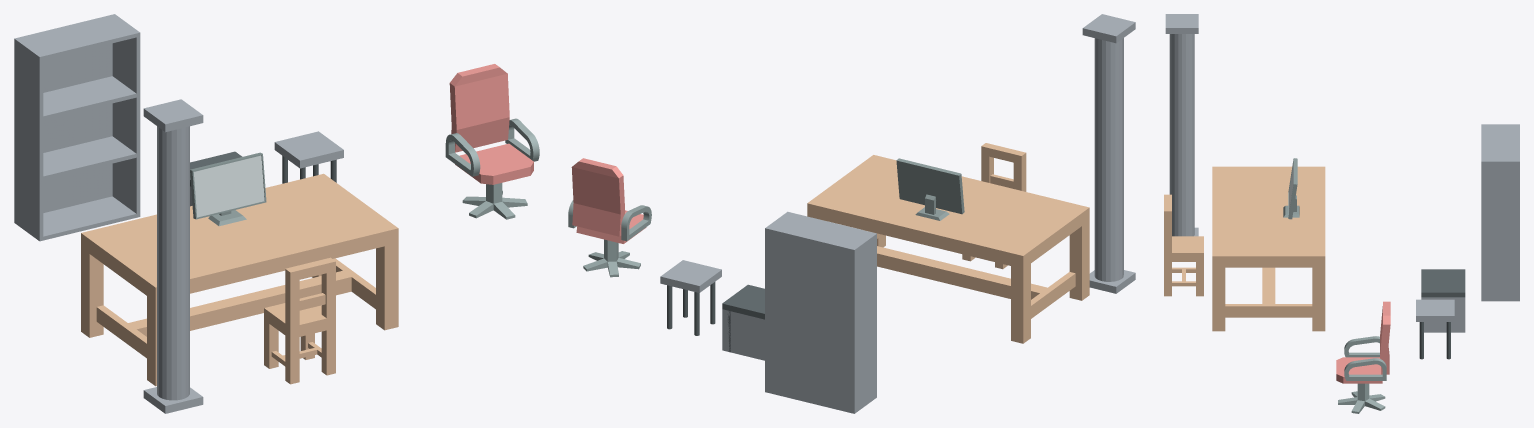
3 views of the same model, side by side, from view 1: azimuth 30°, elevation 25°; view 2: azimuth 150°, elevation 25°; view 3: azimuth 270°, elevation 25° (orthographic). The views are drawn at different scales.
Parts seen in each view (by area): view 1: table_green__table(Clone), column_cyan__column_cyan shaft, deskchair_black__chair, shelf_orange__shelf_orange back, chair_cyan__chair(Clone), shelf_orange__shelf_orange side_l, shelf_orange__shelf_orange side_r, monitor_gray__computerScreen(Clone), shelf_orange__shelf_orange board3, shelf_orange__shelf_orange board2, shelf_orange__shelf_orange board1, shelf_orange__shelf_orange board0 (+4 smaller); view 2: table_green__table(Clone), shelf_orange__shelf_orange back, column_cyan__column_cyan shaft, deskchair_black__chair, shelf_orange__shelf_orange side_l, monitor_gray__computerScreen(Clone), crate_red__crate_red shell, shelf_orange__shelf_orange board3, chair_cyan__chair(Clone), stool_purple__stool_purple seat, column_cyan__column_cyan capital, deskchair_black__chairDesk(Clone) (+3 smaller); view 3: table_green__table(Clone), shelf_orange__shelf_orange side_r, column_cyan__column_cyan shaft, deskchair_black__chair, chair_cyan__chair(Clone), shelf_orange__shelf_orange board3, crate_red__crate_red lid, stool_purple__stool_purple seat, crate_red__crate_red shell, deskchair_black__chairDesk(Clone), column_cyan__column_cyan capital, monitor_gray__computerScreen(Clone).
Boxes of the visible parts, <box> form: table_green__table(Clone): <box>81,173,398,386</box>; column_cyan__column_cyan shaft: <box>157,126,189,400</box>; deskchair_black__chair: <box>445,64,539,184</box>; shelf_orange__shelf_orange back: <box>18,15,112,212</box>; chair_cyan__chair(Clone): <box>264,257,335,384</box>; shelf_orange__shelf_orange side_l: <box>14,37,43,241</box>; shelf_orange__shelf_orange side_r: <box>111,14,140,217</box>; monitor_gray__computerScreen(Clone): <box>190,152,266,226</box>; shelf_orange__shelf_orange board3: <box>20,16,136,59</box>; shelf_orange__shelf_orange board2: <box>43,76,136,120</box>; shelf_orange__shelf_orange board1: <box>43,136,136,180</box>; shelf_orange__shelf_orange board0: <box>43,196,136,240</box>; table_green__table(Clone): <box>807,155,1089,343</box>; shelf_orange__shelf_orange back: <box>768,228,851,412</box>; column_cyan__column_cyan shaft: <box>1094,38,1123,281</box>; deskchair_black__chair: <box>568,158,651,243</box>; shelf_orange__shelf_orange side_l: <box>851,233,876,413</box>; monitor_gray__computerScreen(Clone): <box>896,158,964,220</box>; crate_red__crate_red shell: <box>722,309,764,360</box>; shelf_orange__shelf_orange board3: <box>770,212,873,248</box>; chair_cyan__chair(Clone): <box>962,143,1026,269</box>; stool_purple__stool_purple seat: <box>660,260,721,292</box>; column_cyan__column_cyan capital: <box>1082,14,1135,43</box>; deskchair_black__chairDesk(Clone): <box>583,239,640,277</box>; table_green__table(Clone): <box>1212,166,1325,331</box>; shelf_orange__shelf_orange side_r: <box>1481,160,1519,301</box>; column_cyan__column_cyan shaft: <box>1169,34,1194,236</box>; deskchair_black__chair: <box>1336,301,1390,383</box>; chair_cyan__chair(Clone): <box>1164,194,1203,296</box>; shelf_orange__shelf_orange board3: <box>1481,125,1517,160</box>; crate_red__crate_red lid: <box>1421,269,1465,297</box>; stool_purple__stool_purple seat: <box>1416,299,1454,321</box>; crate_red__crate_red shell: <box>1421,297,1465,332</box>; deskchair_black__chairDesk(Clone): <box>1338,383,1385,413</box>; column_cyan__column_cyan capital: <box>1165,14,1198,33</box>; monitor_gray__computerScreen(Clone): <box>1283,158,1299,219</box>.
Size of the model in its own units: 3.91 by 2.2 by 3.23.
